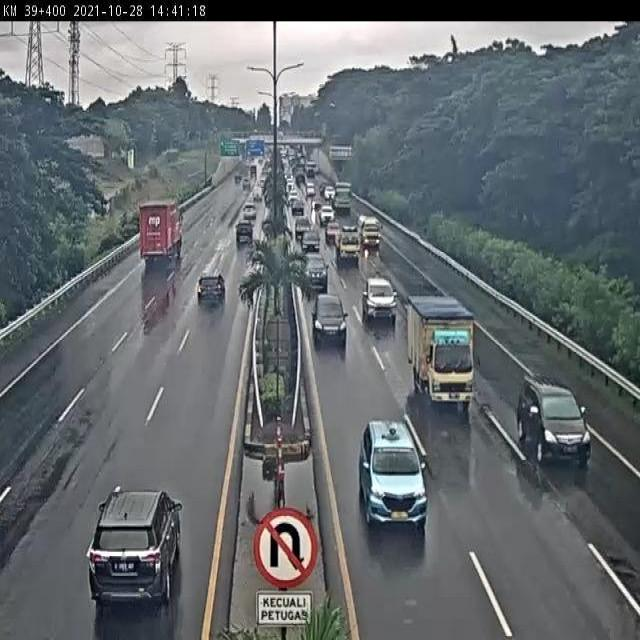car: (86, 488, 187, 605), (360, 416, 427, 525), (517, 374, 592, 466), (313, 294, 349, 346), (362, 276, 397, 323), (197, 269, 227, 307), (301, 251, 329, 289)
mid truck: (138, 201, 181, 263)
truck-m-: (406, 295, 477, 408)
